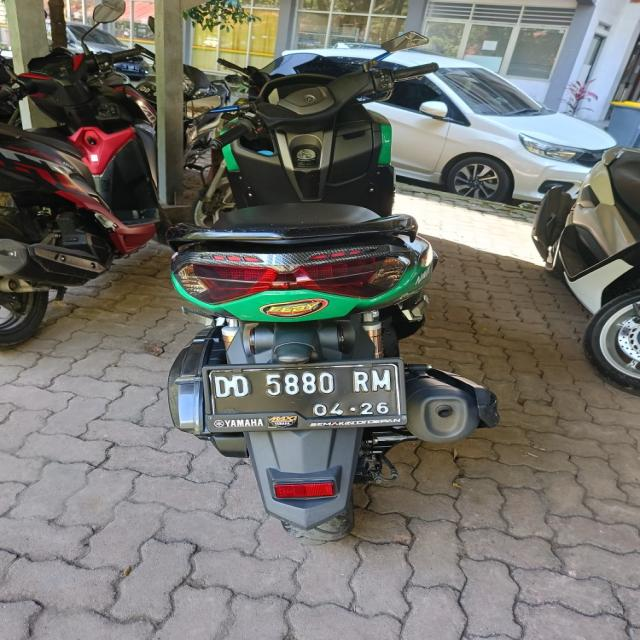plates: (212, 360, 406, 429)
